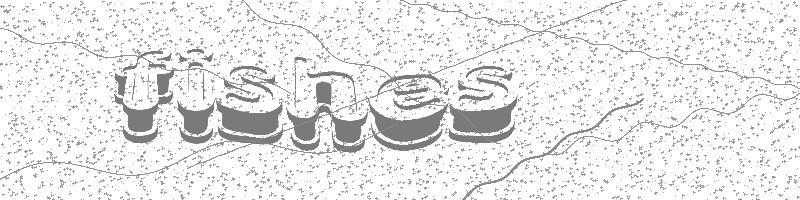e: (368, 67, 449, 149)
f: (111, 48, 177, 143)
h: (288, 55, 368, 154)
i: (176, 43, 217, 147)
s: (217, 62, 288, 149), (447, 61, 519, 144)
